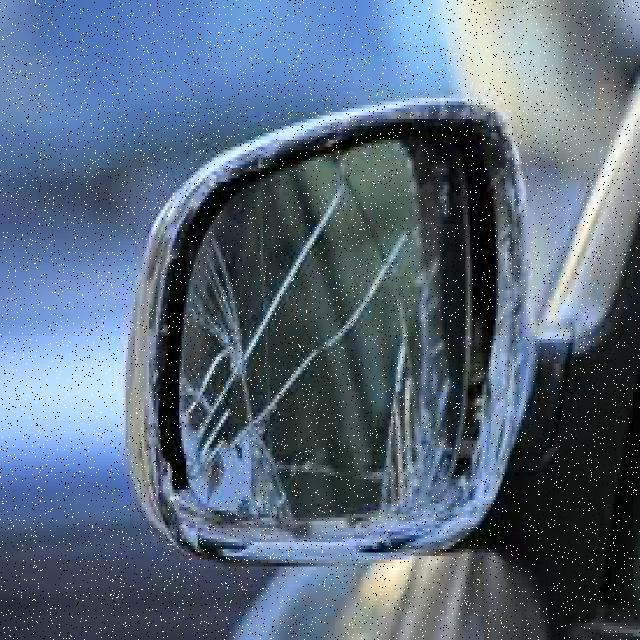Sidemirror-Damage: (100, 91, 552, 594)
